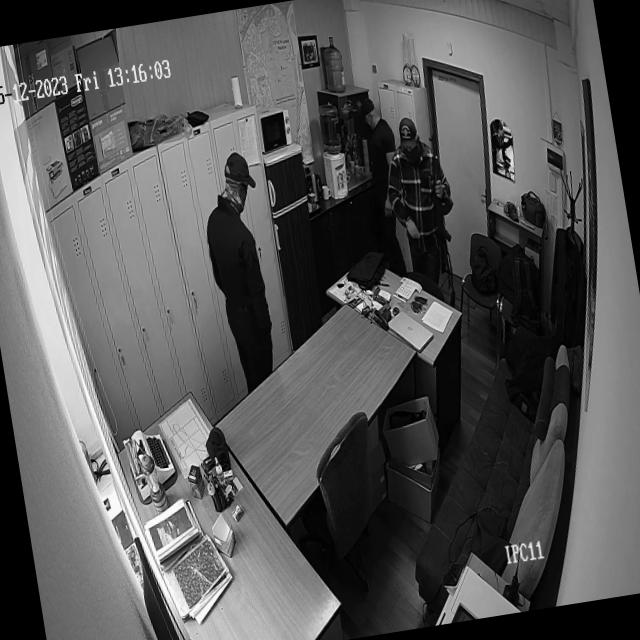gun: (417, 134, 458, 274)
person: (192, 154, 284, 401), (357, 97, 414, 282)
person with a gun: (379, 116, 467, 306)
